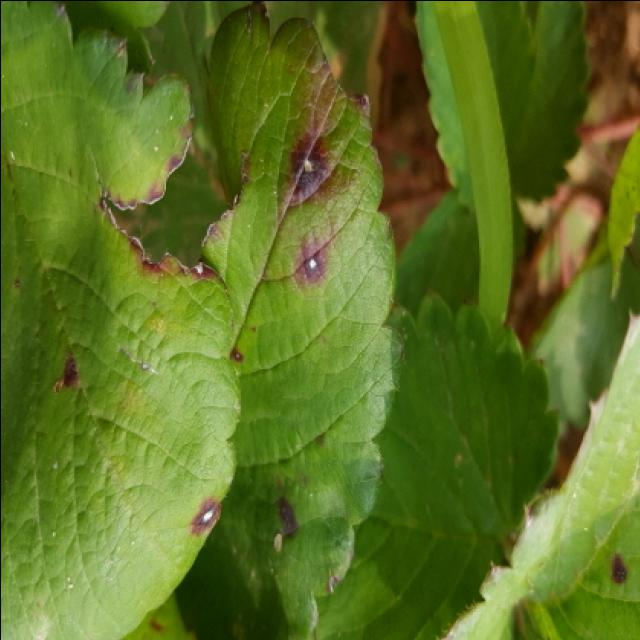Leaf Spot: (2, 2, 242, 640), (170, 2, 398, 640), (441, 307, 640, 640)
